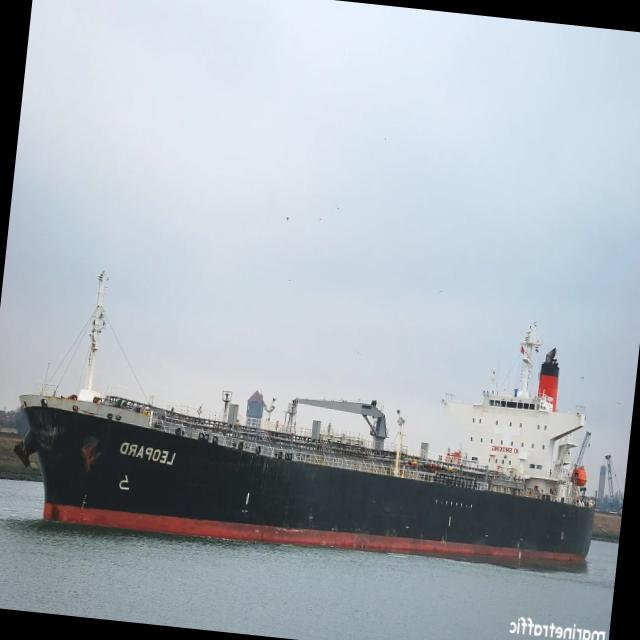Tanker: (14, 272, 595, 564)
